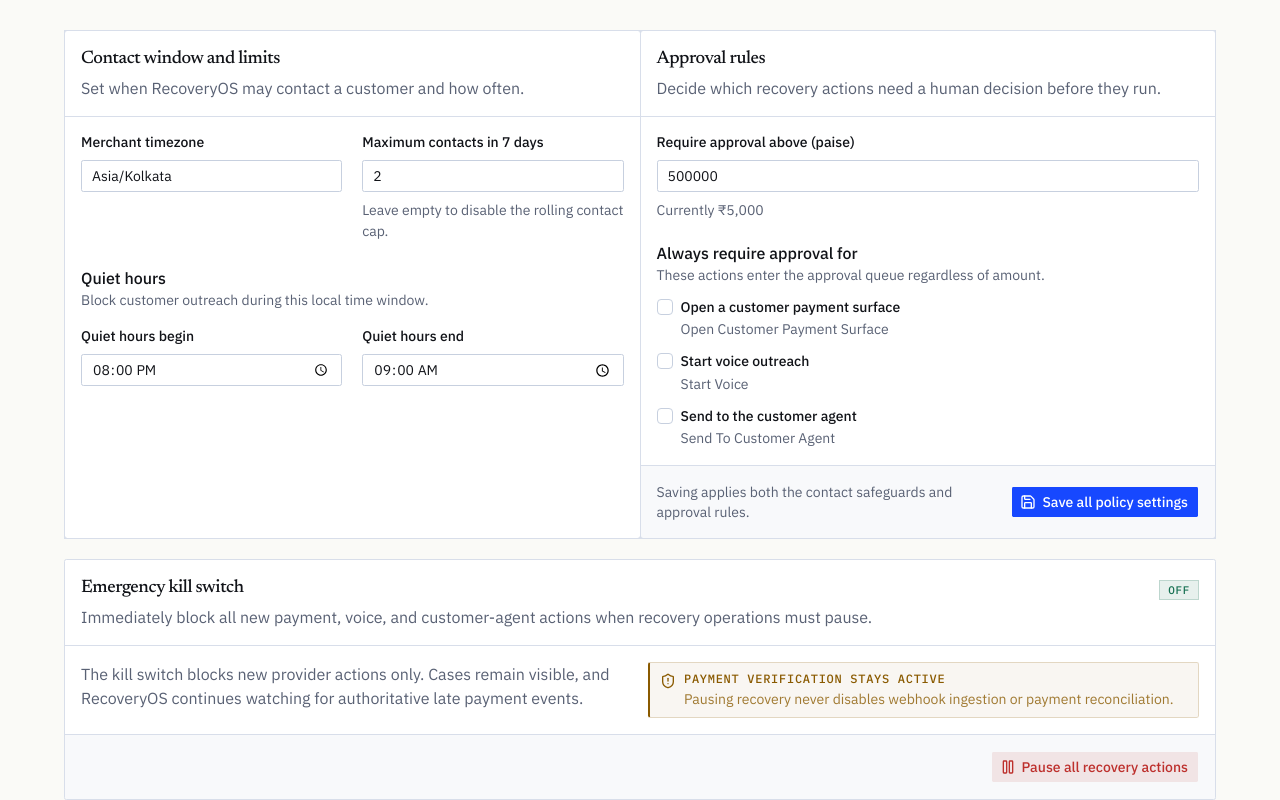
Scenario: PolicySettingsPanel › requires explicit confirmation before enabling the kill switch
(page scrolled)
Click the button "Pause all recovery actions". click: coordinates (1095, 766)
box: [990,750,1199,782]
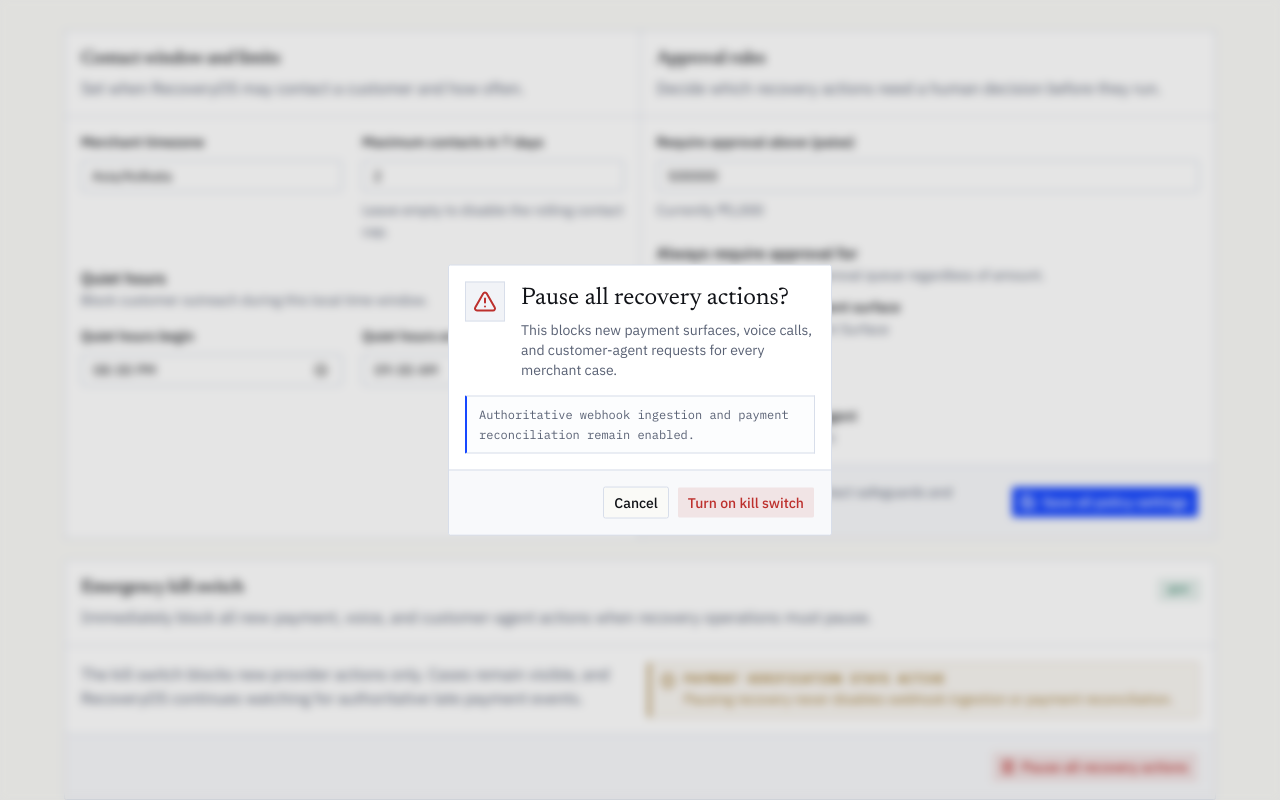
Check: the dialog "Pause all recovery actions?" is shown, box [448,264,832,536]
Click the button "Turn on kill switch". click: coordinates (746, 502)
box: [677,486,815,518]
(page scrolled)
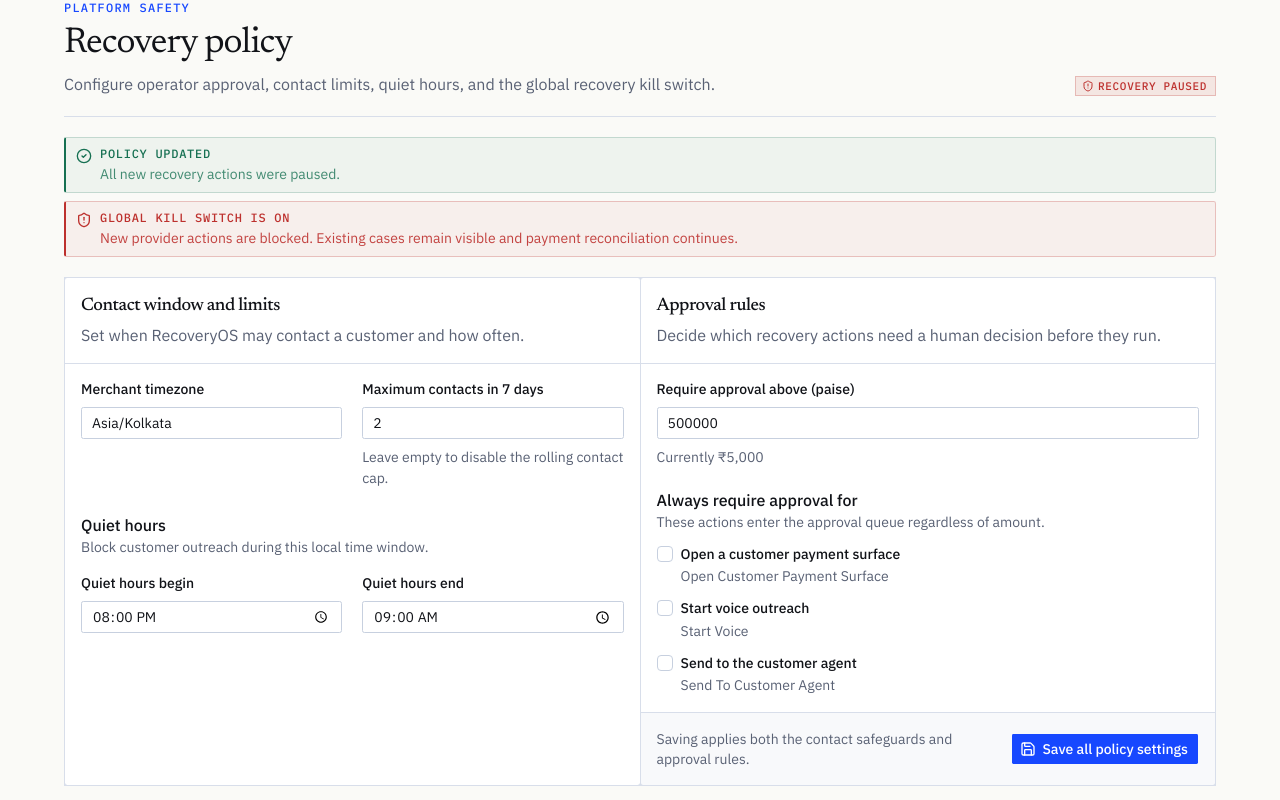
Check: the text "Global kill switch is on" is shown, box [100,210,290,225]
